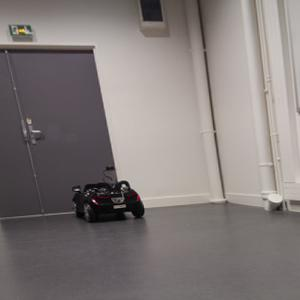big: (70, 182, 147, 222)
